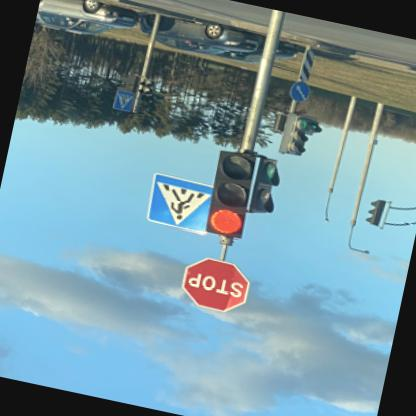crosswalk: (145, 174, 218, 236), (114, 90, 137, 116)
stop: (181, 256, 256, 318)
trafficlight: (206, 150, 262, 242), (279, 111, 326, 162), (252, 160, 286, 218), (364, 198, 392, 231)
